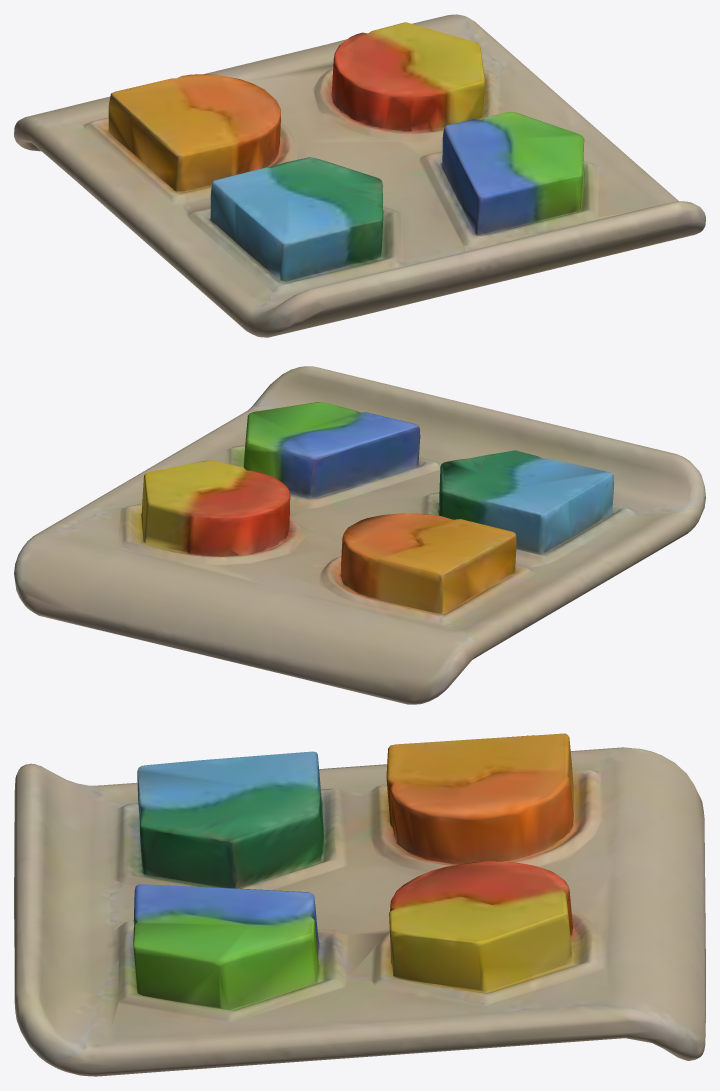
Rendered from SHAPE_MATCHING_NxacpAY9jDt-high.glb.
The picture shows the model from 3 angles, top to bottom: view 1: azimuth 30°, elevation 25°; view 2: azimuth 150°, elevation 25°; view 3: azimuth 270°, elevation 25°; orthographic projection. The views are drawn at different scales.
Parts seen in each view (by area): view 1: SHAPE_MATCHING_NxacpAY9jDt; view 2: SHAPE_MATCHING_NxacpAY9jDt; view 3: SHAPE_MATCHING_NxacpAY9jDt.
Part boxes in pixels (x1,y1,x2,y2): SHAPE_MATCHING_NxacpAY9jDt: [14, 14, 705, 337]; SHAPE_MATCHING_NxacpAY9jDt: [14, 366, 705, 704]; SHAPE_MATCHING_NxacpAY9jDt: [14, 733, 705, 1076].
Bounding box in the file's own units: 0.1752 × 0.0345 × 0.1893.
Materials: 1 (1 with a texture image).
